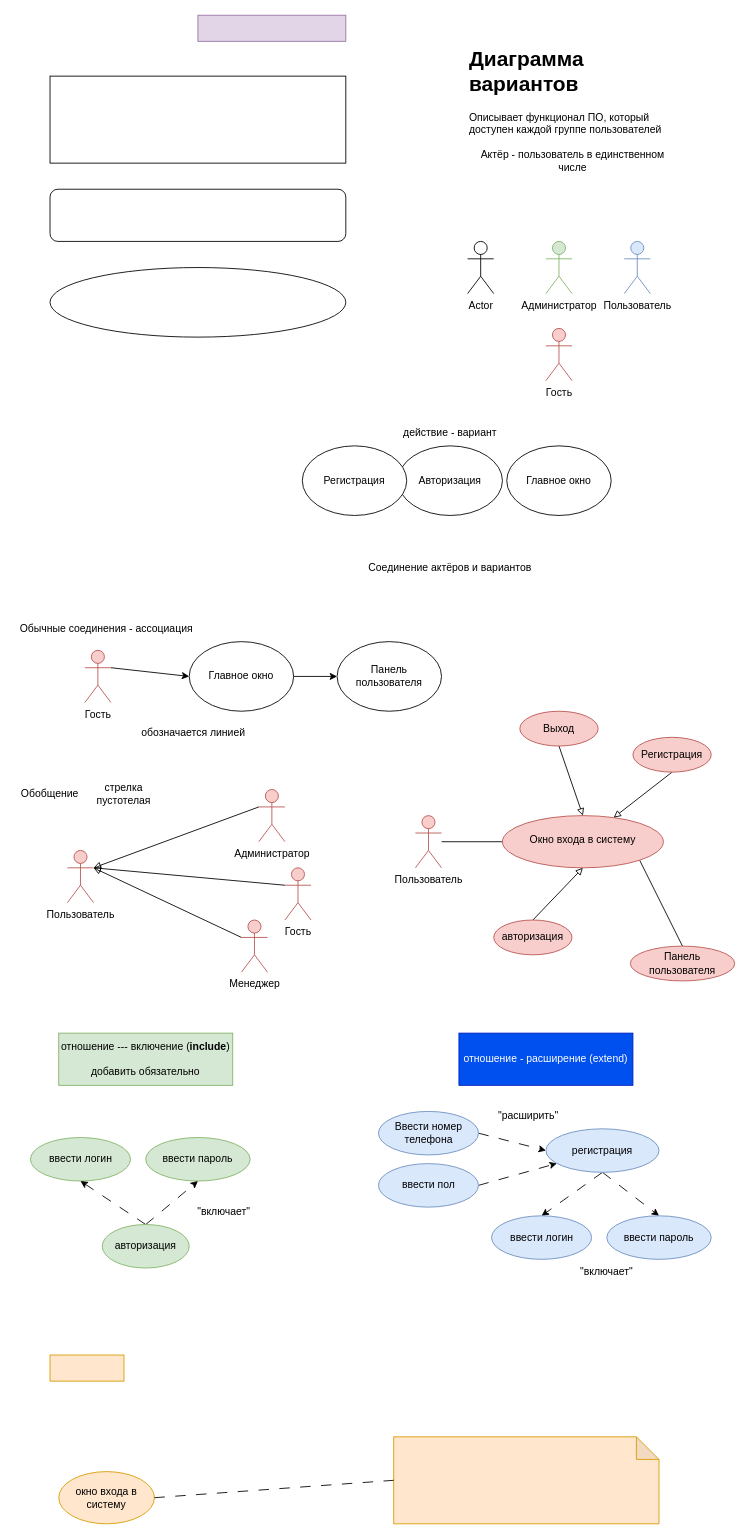
Some shapes in this 750 by 1539 pixel diagram are drawn without their labels. The shapes that lost their labels are listed below. From the top down, each one's centre as x and y in pixels, then its label:
(x=271, y=27): Основные блоки UML
(x=197, y=119): 1.) Классы, Интерфейсы (Методы нескольких классов), Компоненты, Варианты, Другое
(x=197, y=214): 2.) Ассоциации, Обобщения, Зависимости(связи)
(x=197, y=302): Диаграммы - Графическое описание модели
(x=86, y=1367): Коментарии
(x=526, y=1480): если пользователь не зарегистрирован он должен попасть в окно регистрации
